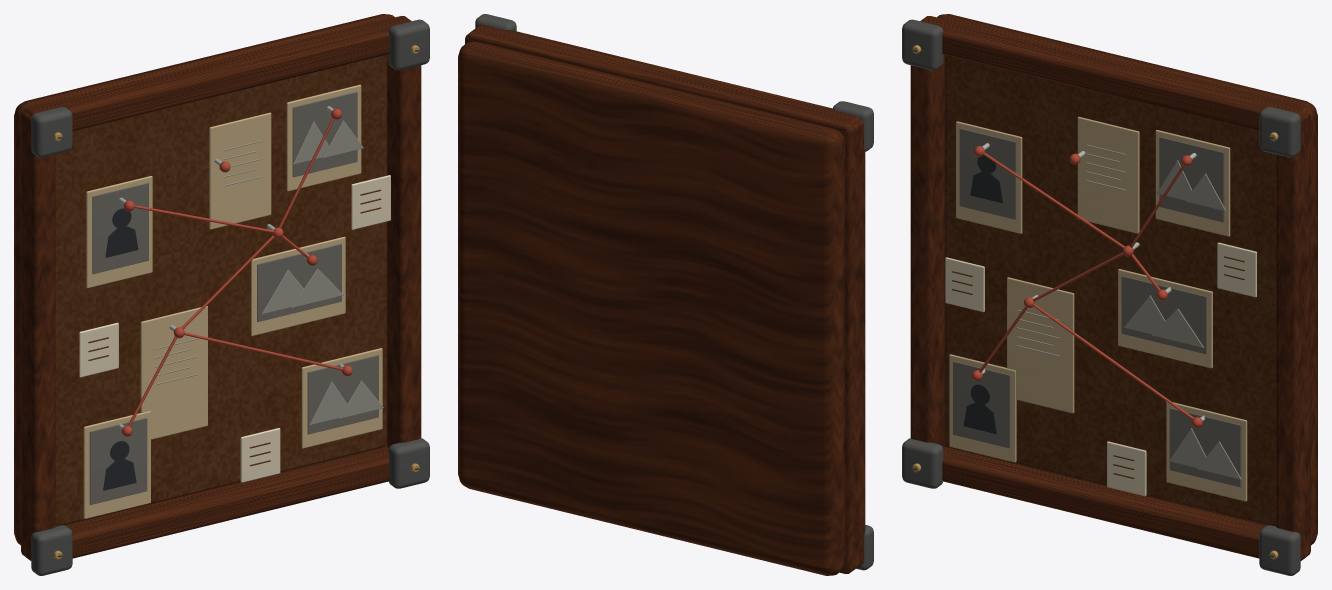
The model's file is aventura_quadro_investigacao.glb.
3 renders of one model, left to right at view 1: azimuth 30°, elevation 25°; view 2: azimuth 150°, elevation 25°; view 3: azimuth 330°, elevation 25°, orthographic.
Parts seen in each view (by area): view 1: quadro_investigacao; view 2: quadro_investigacao; view 3: quadro_investigacao.
Boxes of the visible parts, box(x1,y1,x2,y2) form: quadro_investigacao: box(14, 14, 429, 575); quadro_investigacao: box(458, 14, 873, 575); quadro_investigacao: box(902, 14, 1317, 575).
Bounding box in the file's own units: 0.37 × 0.413 × 0.071.
11 materials, 3 textured.
